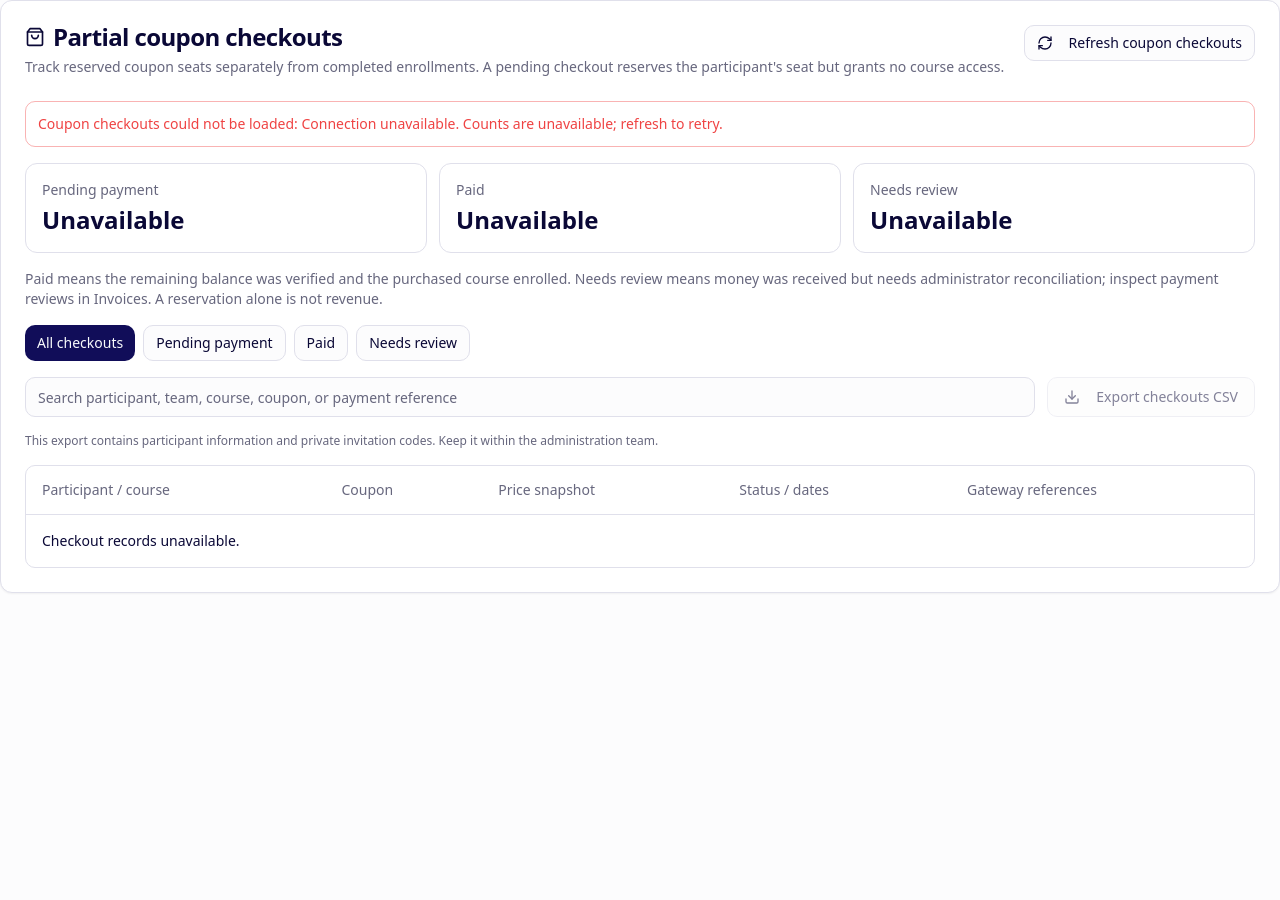
Scenario: admin partial coupon checkout tracking › keeps counts unavailable and export disabled after a load failure, then supports refresh
Expected: the message shows "Connection unavailable", [301, 114, 455, 133]
Expected: the text "Unavailable" is shown 3 times, [42, 203, 184, 236]; [456, 203, 598, 236]; [870, 203, 1012, 236]
Click the button "Refresh coupon checkouts" at (1139, 43), box [1024, 25, 1255, 61]
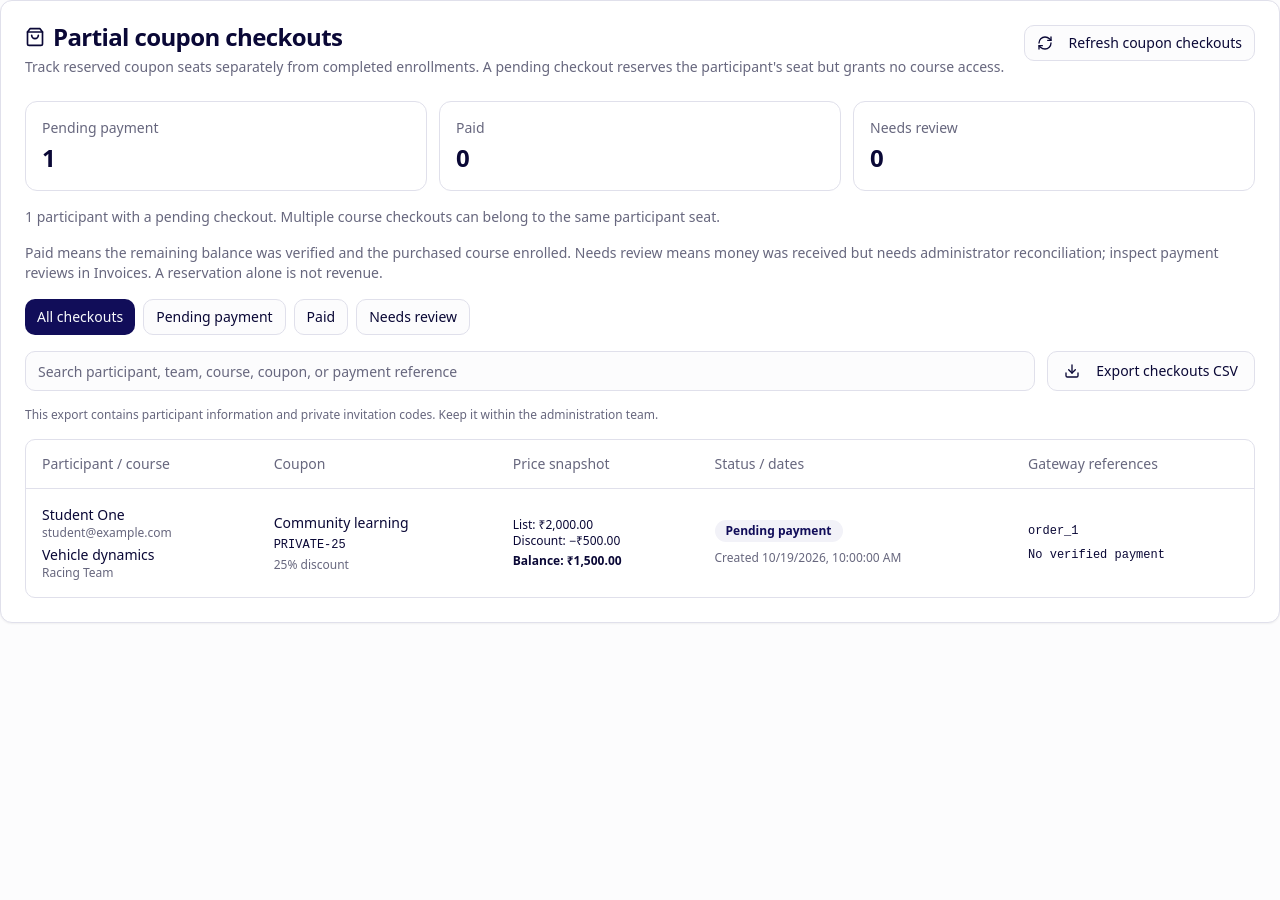
Expected: the text "Student One" is shown, [42, 504, 125, 524]
Expected: the message is gone
